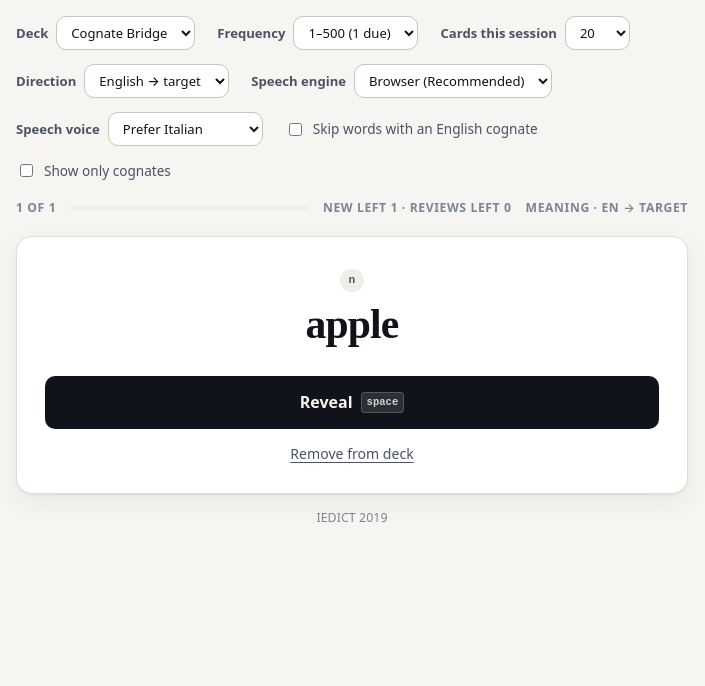
Test: StudyPage › reports the session score once the queue is exhausted
Click the button "Reveal space". click: (352, 403)
box: 45,376 -> 659,429
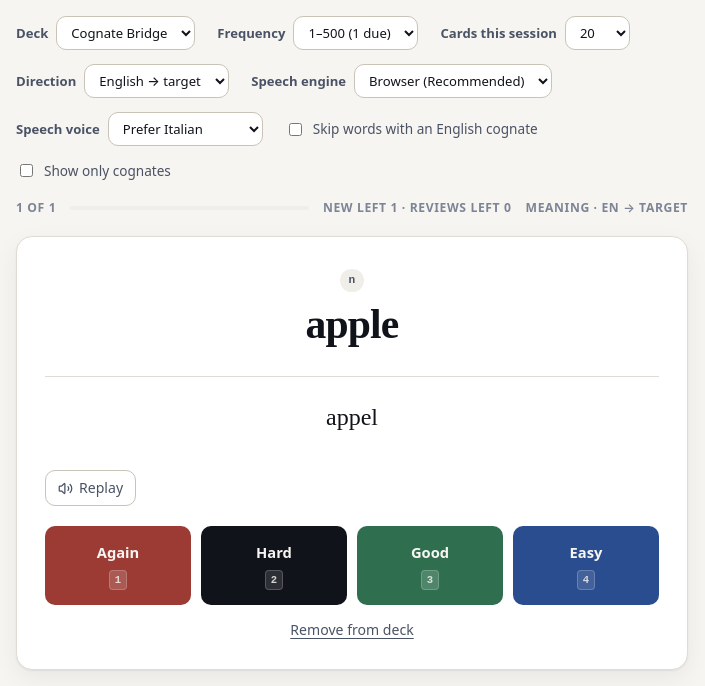
Click the button "Again 1". click: (118, 566)
box: 45,526 -> 191,605
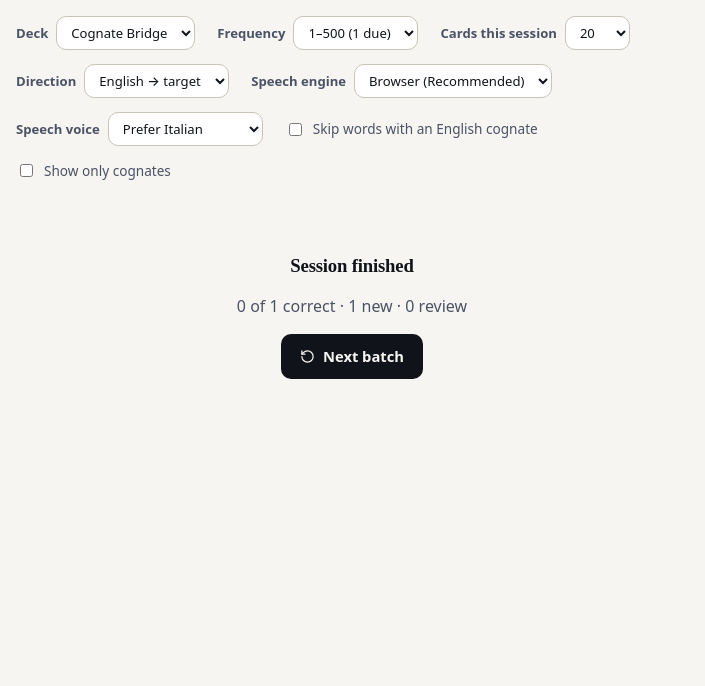
Expected: the heading "Session finished" is shown, 290,255 -> 414,276
Expected: the text "0 of 1 correct · 1 new · 0 review" is shown, 237,294 -> 467,316
